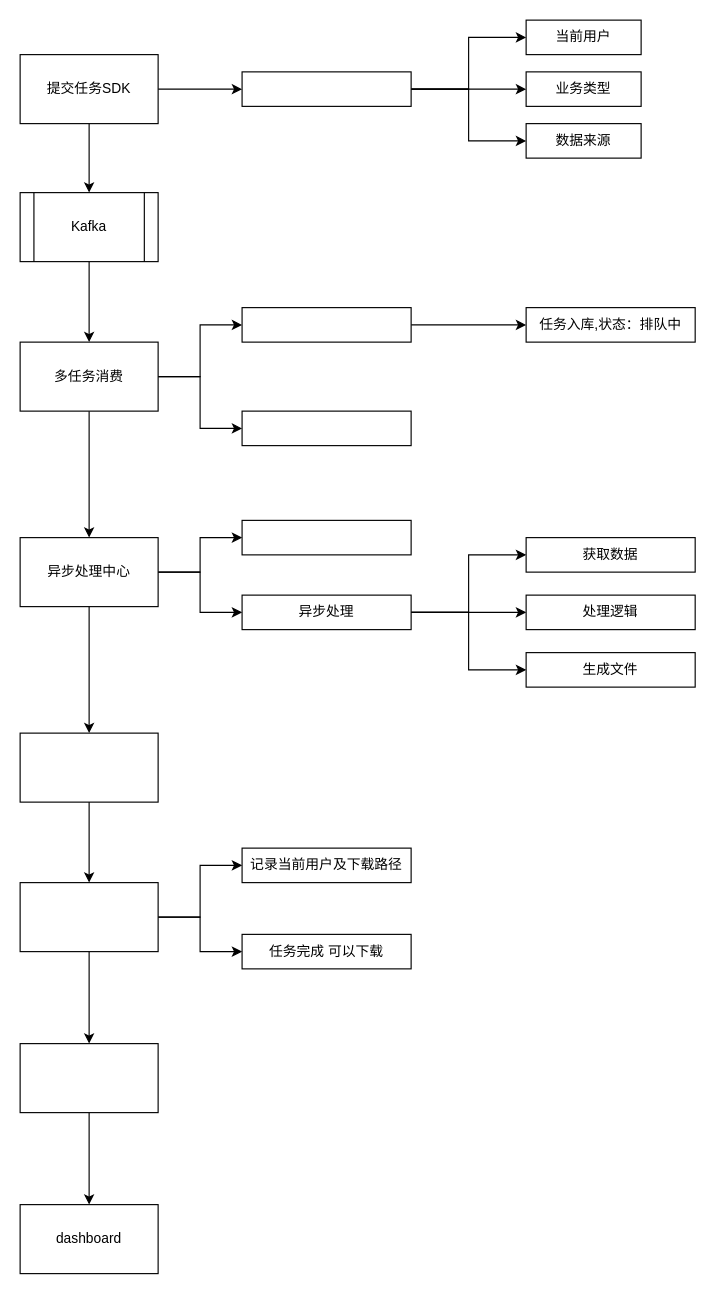
Some shapes in this 715 by 1294 pixel diagram are drawn without their labels. Each missing label, with the centre of its shape:
上传云OSS: point 88,767
存储路径信息: point 88,916
对外接口: point 88,1077
数据格式定义: point 326,88
生成任务 记录进度: point 326,324
生成任务Id 记录日志: point 326,428
线程池顺序读取数据任务: point 326,537
